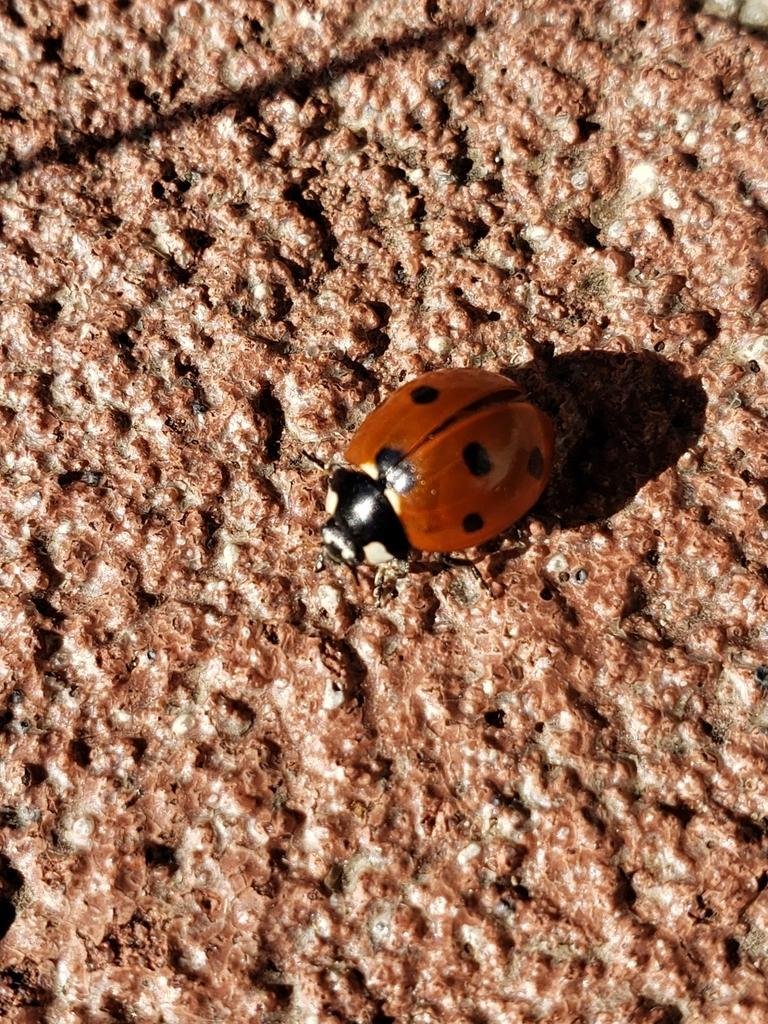ladybug: (319, 366, 559, 571)
